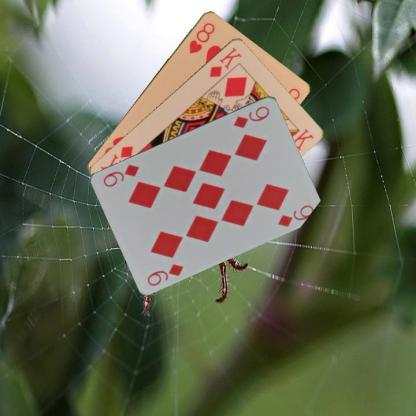8h: (186, 20, 216, 55)
9d: (144, 261, 185, 287), (231, 103, 271, 129)
Kd: (206, 44, 244, 78)
